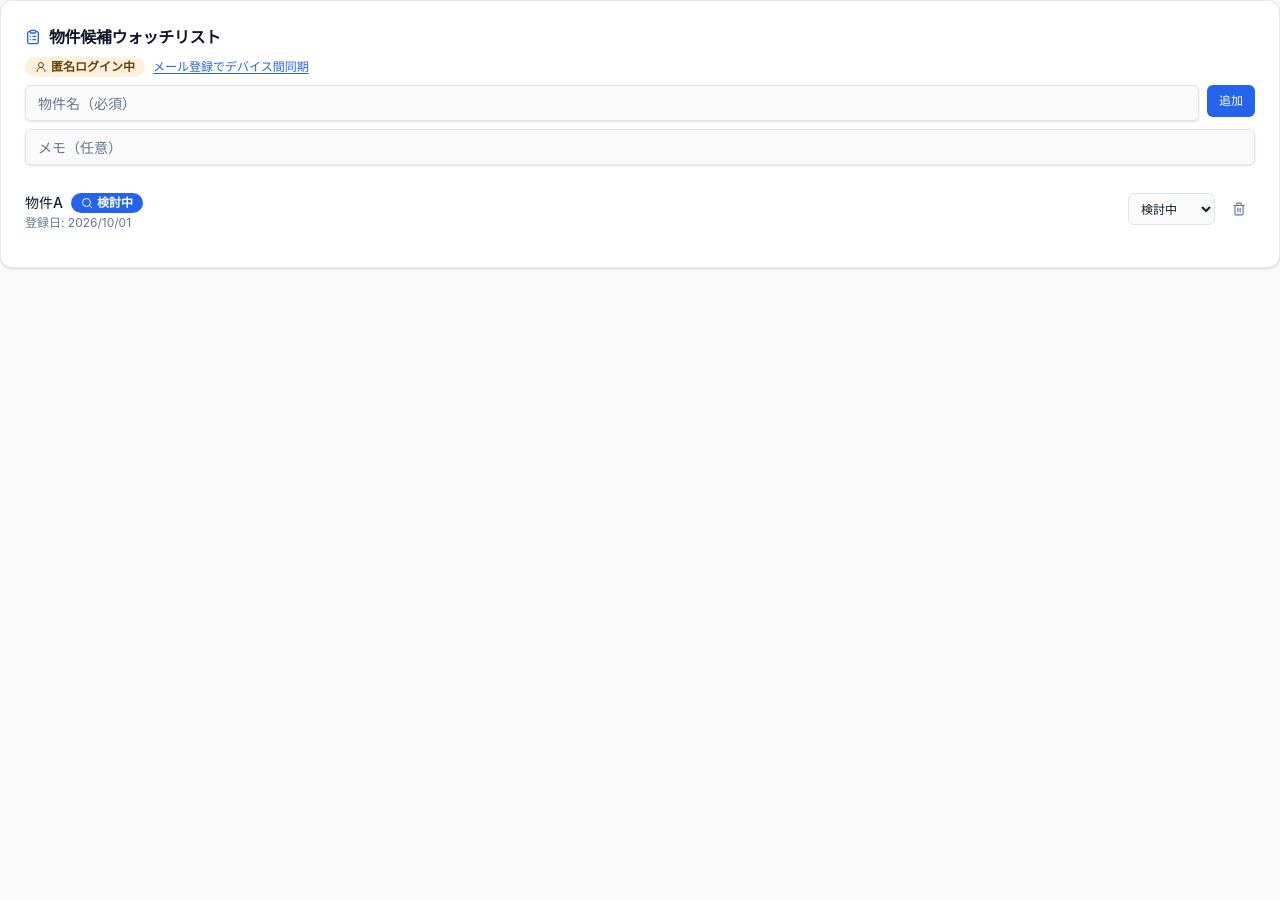
WatchlistPanel（Firebase 未設定） › 削除すると一覧と localStorage から消える
The width and height of the screenshot is (1280, 900).
Click the button named "物件A を削除" at (1239, 209), box [1223,193,1255,225]
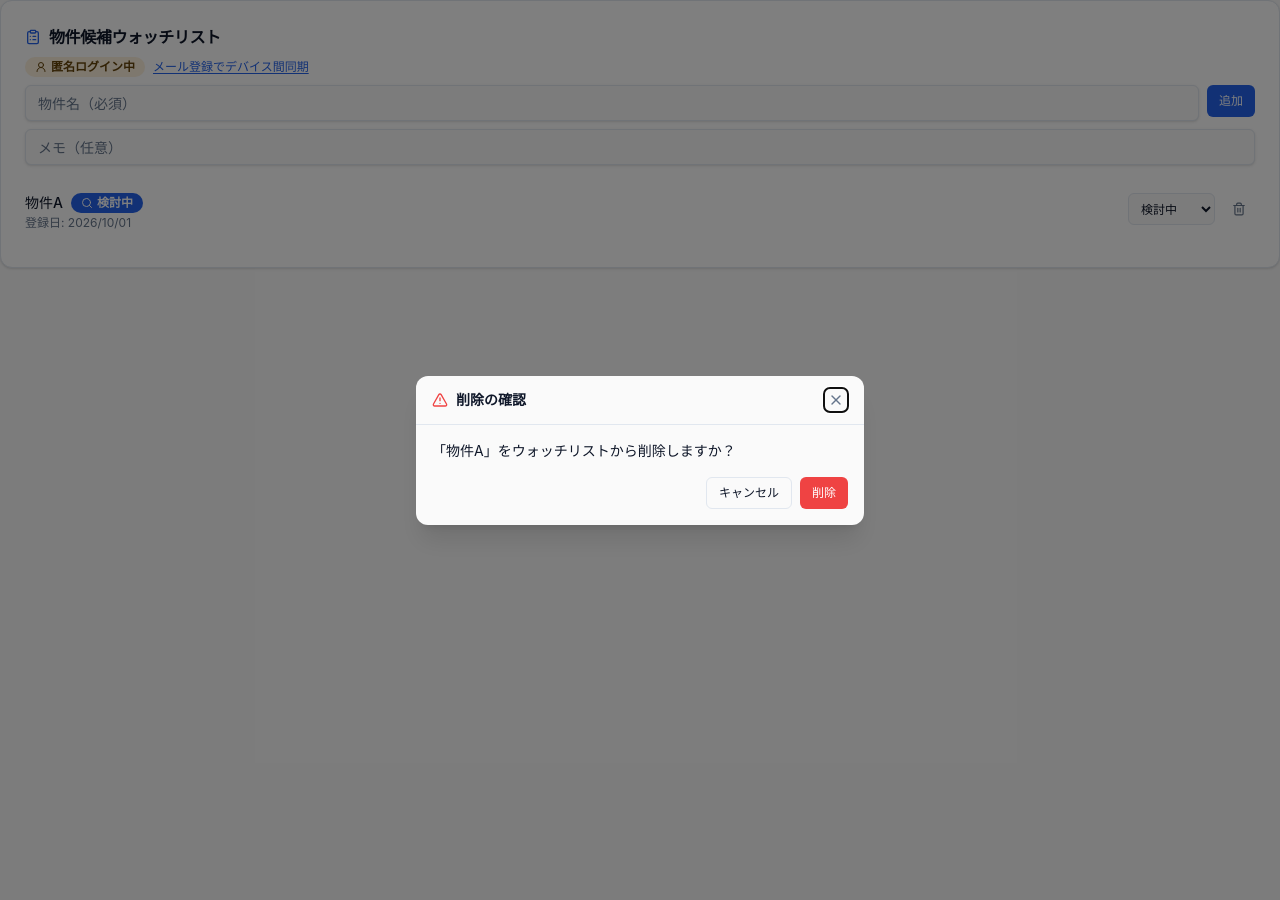
Click the button "削除" at (824, 492), box [800,476,848,508]
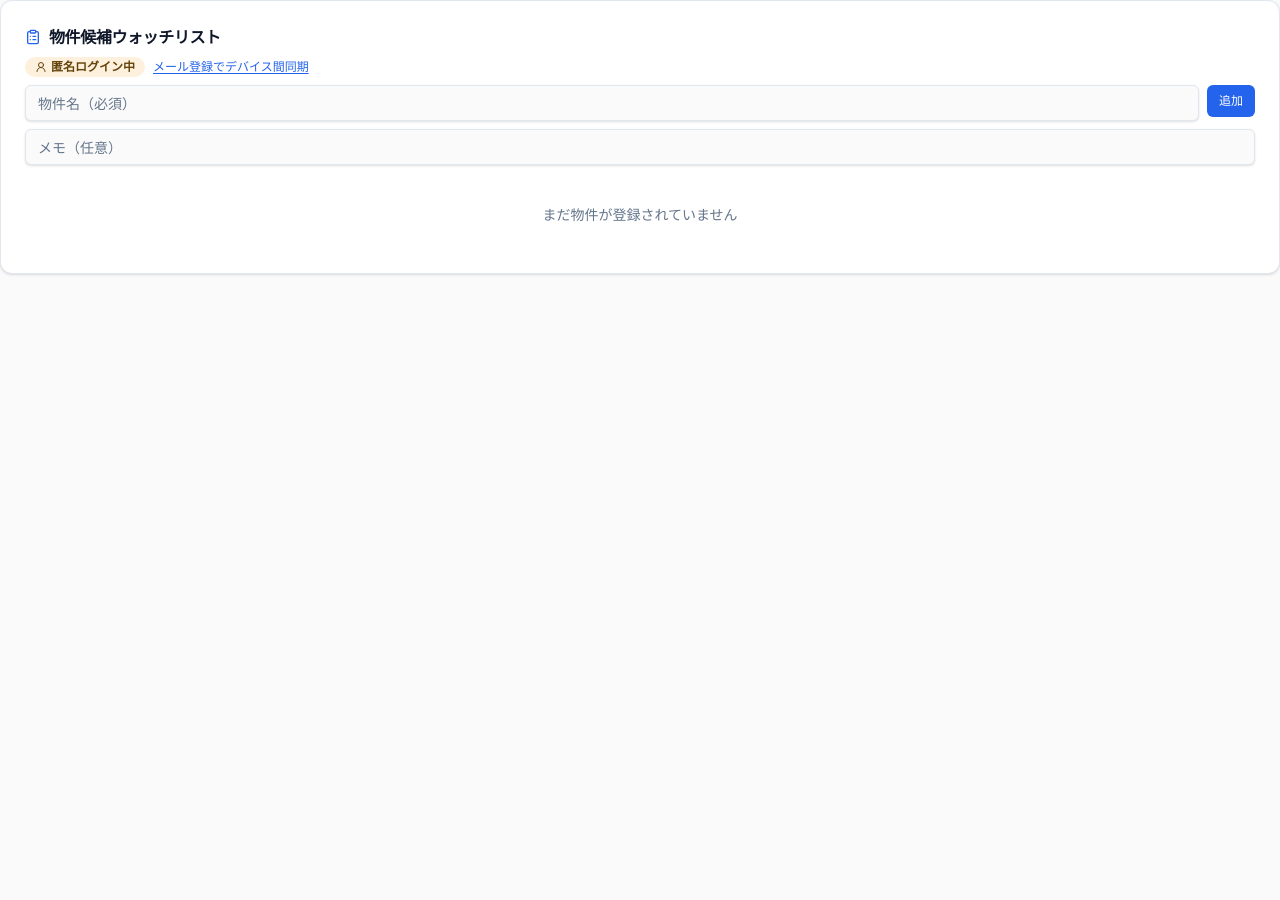
Check: the text "物件A" is gone
